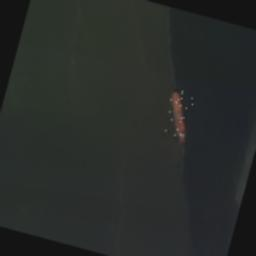boat: (160, 88, 197, 144)
